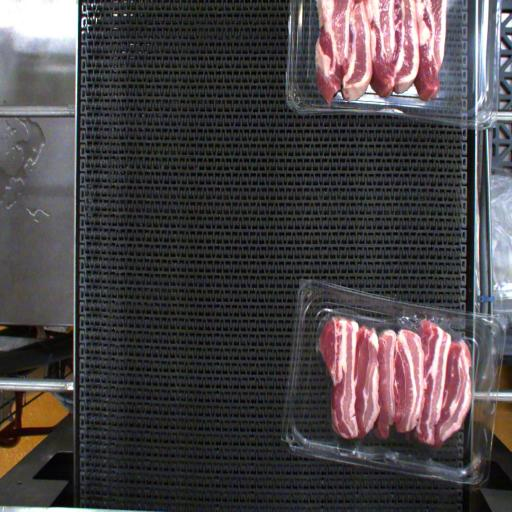unsealed: (309, 299, 479, 382)
